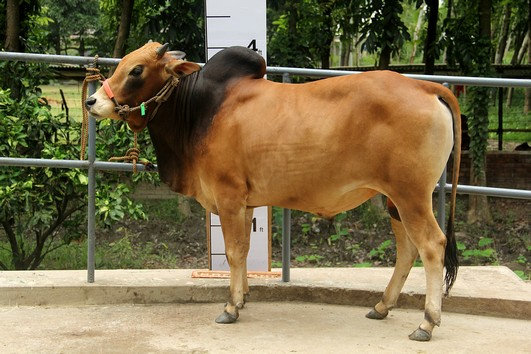cow: (81, 33, 460, 343)
